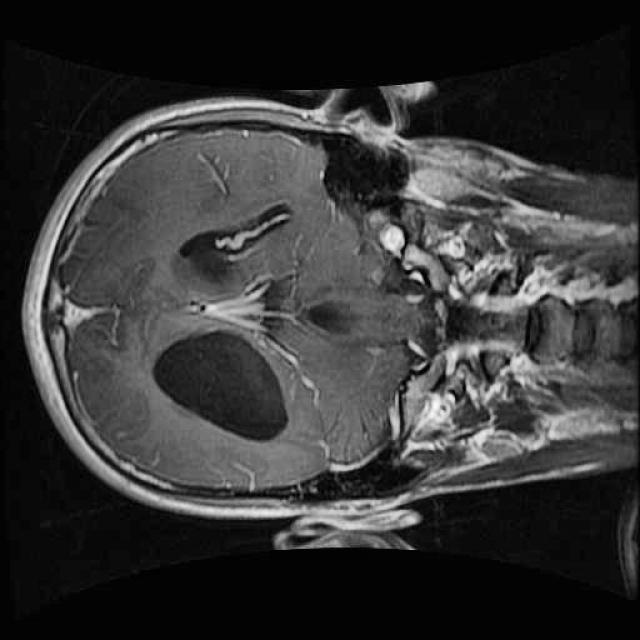Tumor: (63, 335, 163, 460)
